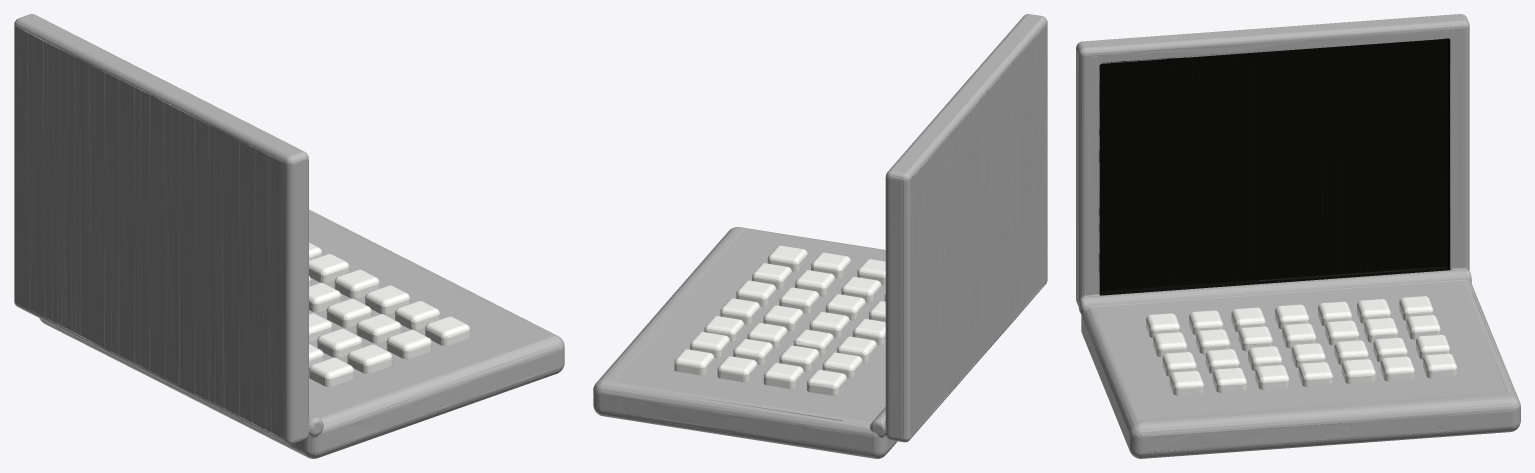
Rendered from notebook_2.glb.
3 views of the same model, side by side, from view 1: azimuth 30°, elevation 25°; view 2: azimuth 150°, elevation 25°; view 3: azimuth 270°, elevation 25° (orthographic). The views are drawn at different scales.
Parts seen in each view (by area): view 1: 282297_23_05_24_17_32_28_1, 282297_23_05_24_17_32_28_2; view 2: 282297_23_05_24_17_32_28_1, 282297_23_05_24_17_32_28_2; view 3: 282297_23_05_24_17_32_28_1, 282297_23_05_24_17_32_28_2.
Part boxes in pixels (x1=…): 282297_23_05_24_17_32_28_1: x1=14, y1=14, x2=564, y2=458; 282297_23_05_24_17_32_28_2: x1=309, y1=242, x2=470, y2=386; 282297_23_05_24_17_32_28_1: x1=593, y1=14, x2=1047, y2=458; 282297_23_05_24_17_32_28_2: x1=674, y1=245, x2=885, y2=395; 282297_23_05_24_17_32_28_1: x1=1076, y1=14, x2=1520, y2=458; 282297_23_05_24_17_32_28_2: x1=1146, y1=296, x2=1457, y2=395.
Size of the model in its own units: 2.24 by 1.8 by 2.54.
2 materials, 2 textured.
